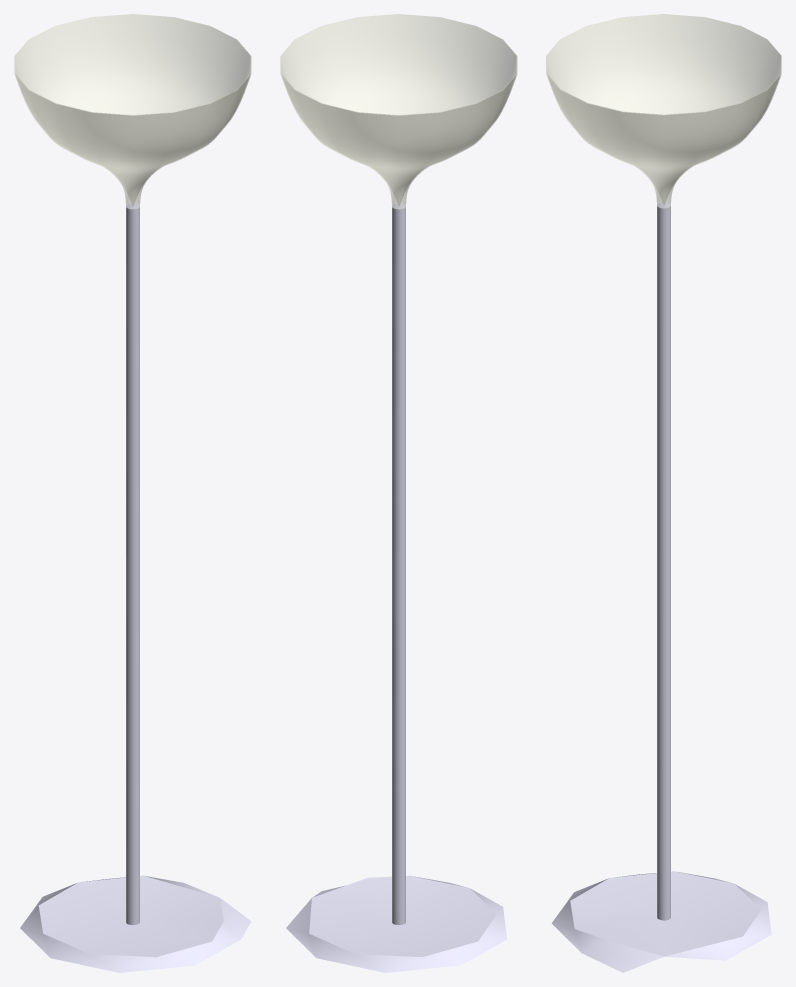
File: IKEA-NOT_Lampadaire-3D.FBX
The picture shows the model from 3 angles, left to right: view 1: azimuth 30°, elevation 25°; view 2: azimuth 150°, elevation 25°; view 3: azimuth 270°, elevation 25°; orthographic projection.
Visible parts, largest first — view 1: Rectangle002; view 2: Rectangle002; view 3: Rectangle002.
Part boxes in pixels (x1,y1,x2,y2): Rectangle002: [14, 14, 251, 972]; Rectangle002: [280, 14, 517, 972]; Rectangle002: [546, 14, 781, 972].
Size of the model in its own units: 0.5119 by 0.5041 by 2.03.
